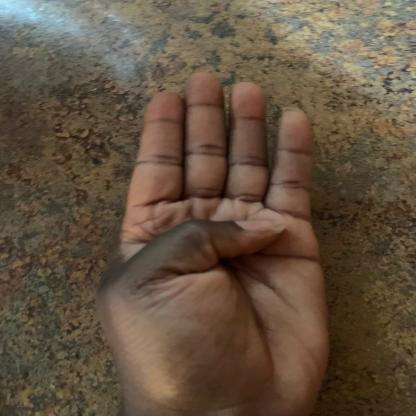B: (88, 67, 338, 416)
